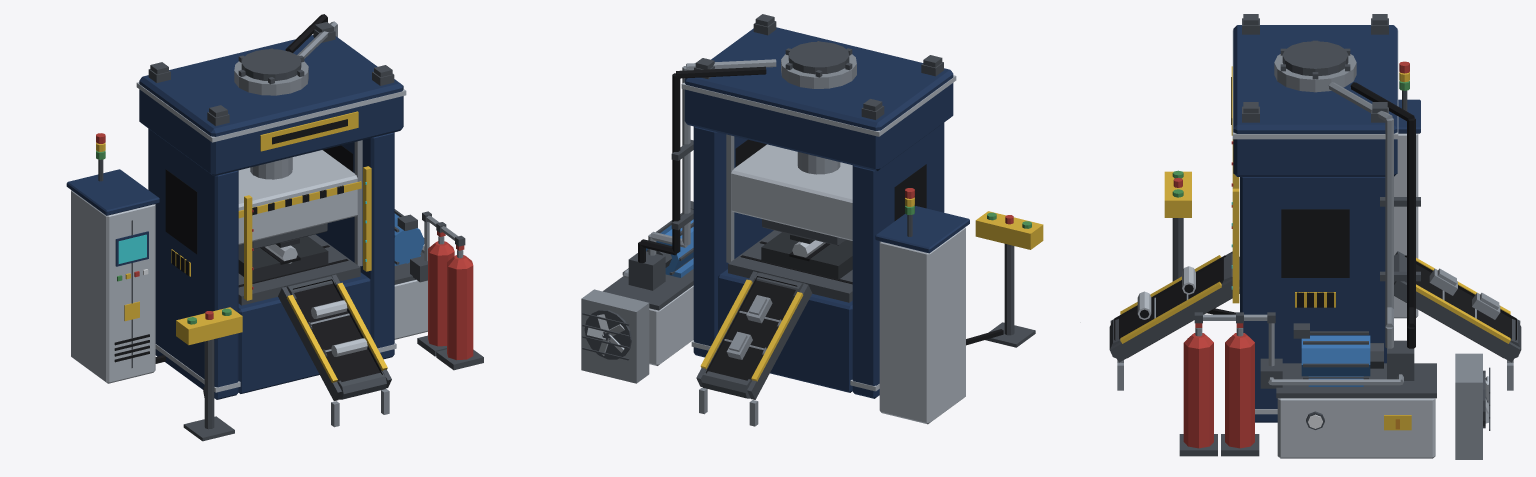
Rendered from presse_lourde_t3.glb.
3 renders of one model, left to right at view 1: azimuth 30°, elevation 25°; view 2: azimuth 150°, elevation 25°; view 3: azimuth 270°, elevation 25°, orthographic. The views are drawn at different scales.
Parts seen in each view (by area): view 1: couronne.002, flasque_-1.002, armoire.008, pieces_acier_sombre.015, pieces_noir.015, flasque_1.002, pieces_jaune.015, coulisseau_gris_clair.002, sommier.002, armoire_toit.008, pieces_acier.015, accumulateur_1.002 (+12 smaller); view 2: couronne.002, armoire.008, pieces_acier_sombre.015, flasque_-1.002, pieces_noir.015, coulisseau_gris_clair.002, flasque_1.002, pieces_acier.015, sommier.002, pieces_jaune.015, armoire_toit.008, bache.002 (+10 smaller); view 3: flasque_1.002, couronne.002, pieces_acier_sombre.015, pieces_noir.015, bache.002, pieces_acier.015, pieces_jaune.015, accumulateur_1.002, accumulateur_0.002, pieces_bleu.010, armoire.008, verin_tete.002 (+5 smaller).
Boxes of the visible parts, x1,y1,x2,y2 form: couronne.002: (139, 35, 403, 176); flasque_-1.002: (148, 128, 238, 399); armoire.008: (71, 190, 155, 383); pieces_acier_sombre.015: (98, 22, 483, 441); pieces_noir.015: (114, 14, 382, 397); flasque_1.002: (316, 132, 394, 359); pieces_jaune.015: (96, 111, 387, 382); coulisseau_gris_clair.002: (238, 150, 357, 244); sommier.002: (238, 272, 370, 393); armoire_toit.008: (66, 169, 159, 215); pieces_acier.015: (297, 21, 463, 427); accumulateur_1.002: (447, 263, 473, 360); couronne.002: (684, 27, 953, 171); armoire.008: (879, 227, 965, 424); pieces_acier_sombre.015: (582, 14, 1035, 399); flasque_-1.002: (852, 123, 944, 398); pieces_noir.015: (638, 66, 1003, 380); coulisseau_gris_clair.002: (731, 144, 852, 240); flasque_1.002: (693, 126, 773, 357); pieces_acier.015: (581, 59, 781, 426); sommier.002: (718, 269, 852, 392); pieces_jaune.015: (700, 197, 1043, 381); armoire_toit.008: (875, 206, 969, 253); bache.002: (649, 285, 693, 365); flasque_1.002: (1240, 177, 1386, 422); couronne.002: (1233, 25, 1397, 176); pieces_acier_sombre.015: (1109, 14, 1521, 456); pieces_noir.015: (1114, 77, 1516, 358); bache.002: (1277, 398, 1435, 458); pieces_acier.015: (1117, 82, 1513, 459); pieces_jaune.015: (1120, 66, 1510, 430); accumulateur_1.002: (1183, 343, 1213, 448); accumulateur_0.002: (1225, 343, 1254, 448); pieces_bleu.010: (1301, 335, 1370, 386); armoire.008: (1394, 133, 1418, 318); verin_tete.002: (1282, 41, 1348, 75).
Size of the model in its own units: 2 by 1.72 by 2.
